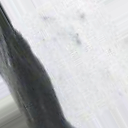crackTip: (1, 2, 75, 128)
